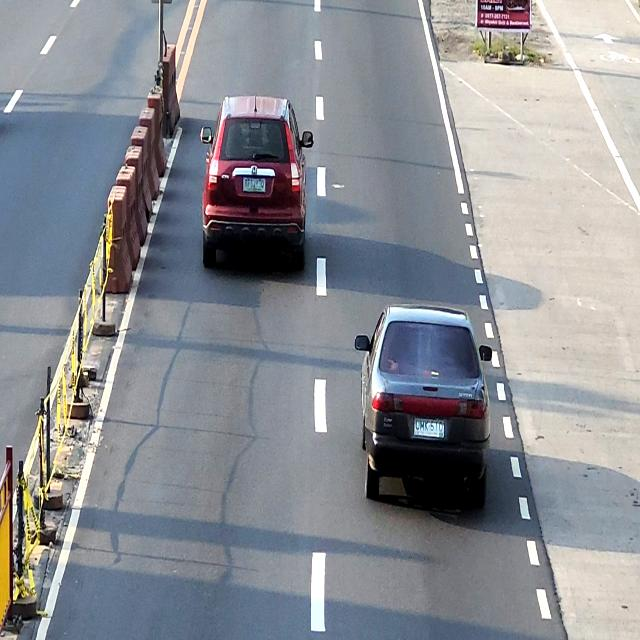Car: (356, 302, 492, 509), (201, 95, 314, 269)
License-Plate: (414, 418, 444, 439), (243, 178, 266, 192)
